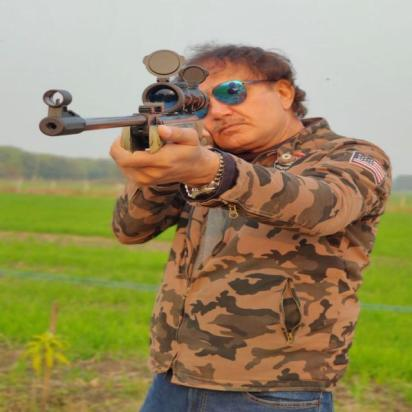Gun: (36, 48, 211, 155)
